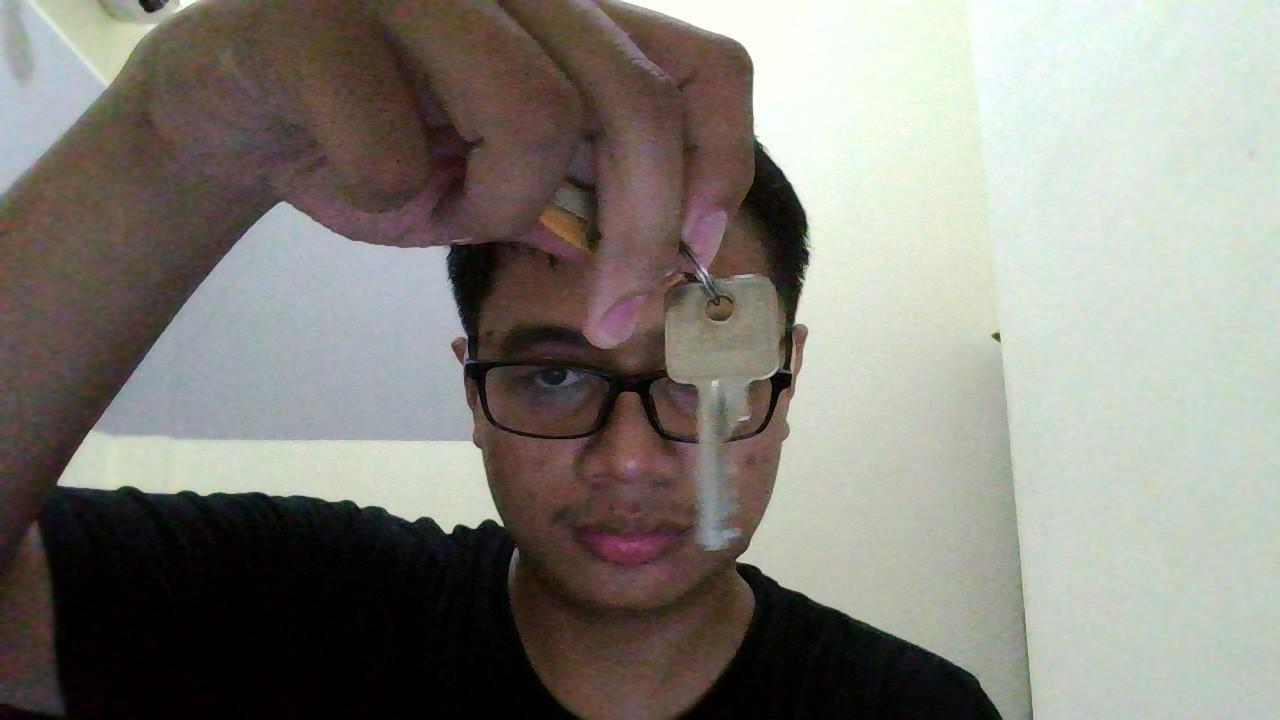keys: (658, 245, 779, 572)
